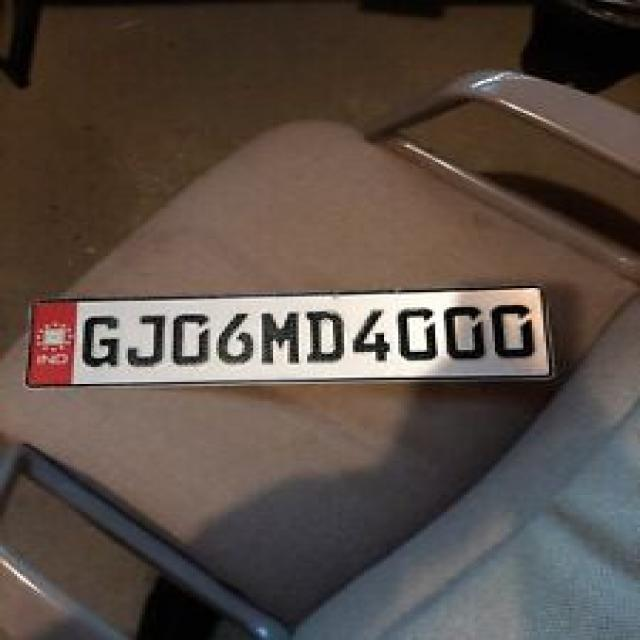License_Plate: (29, 284, 553, 387)
